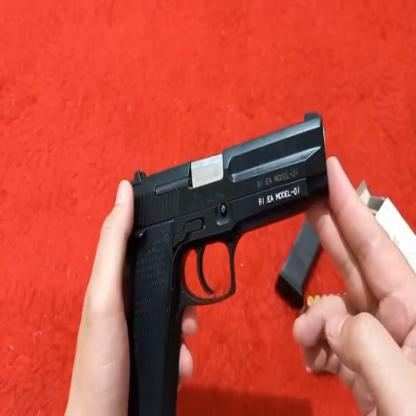handgun: (114, 98, 332, 416)
